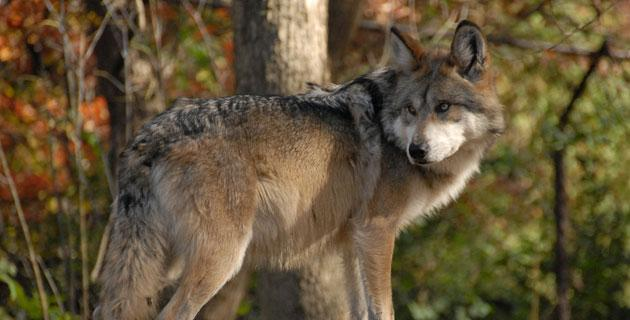Lobo: (96, 26, 498, 304)
